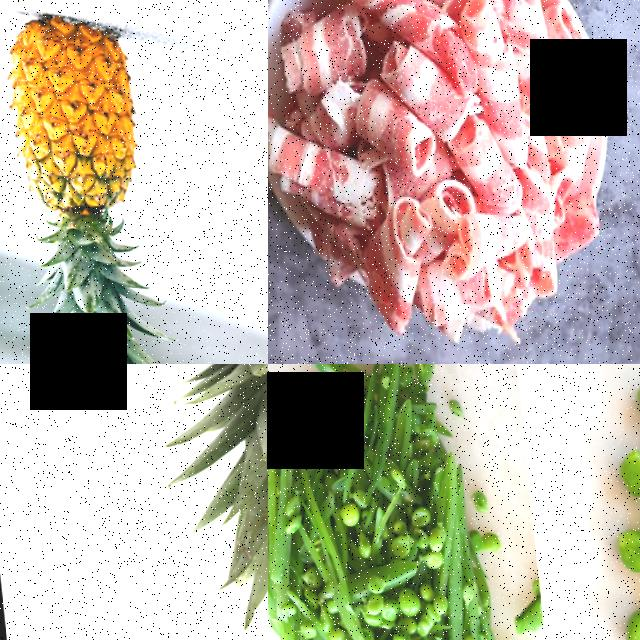peas: (287, 482, 455, 640), (598, 440, 640, 640)
pineapple: (0, 12, 150, 275)
pork belly: (456, 0, 565, 166), (323, 0, 468, 97), (268, 121, 382, 225), (430, 200, 525, 282)
